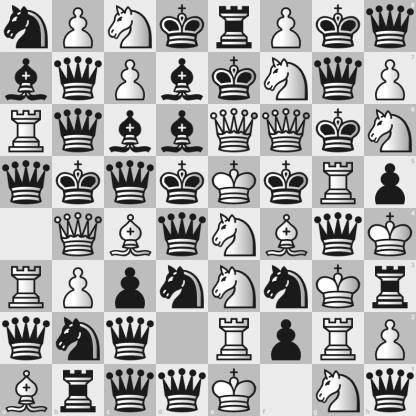B: (0, 364, 52, 416), (105, 209, 156, 260), (261, 209, 312, 260)
K: (209, 364, 260, 416), (364, 209, 416, 260), (209, 157, 260, 208), (313, 261, 364, 312)
N: (312, 364, 364, 416), (364, 104, 416, 156), (105, 1, 156, 52), (209, 209, 260, 260), (209, 261, 260, 312), (261, 53, 312, 104)
P: (364, 52, 416, 104), (364, 312, 416, 364), (53, 1, 104, 52), (53, 261, 104, 312), (105, 53, 156, 104), (261, 1, 312, 52)
Q: (53, 209, 104, 260), (209, 105, 260, 156), (261, 105, 312, 156)
R: (1, 105, 52, 156), (1, 261, 52, 312), (209, 313, 260, 364), (313, 157, 364, 208), (313, 313, 364, 364)
b: (1, 53, 52, 104), (105, 105, 156, 156), (157, 53, 208, 104), (157, 105, 208, 156)
board: (0, 0, 415, 415)
k: (53, 157, 104, 208), (157, 1, 208, 52), (157, 157, 208, 208), (209, 53, 260, 104), (261, 157, 312, 208), (313, 1, 364, 52), (313, 105, 364, 156)
n: (1, 1, 52, 52), (53, 313, 104, 364), (157, 261, 208, 312), (261, 261, 312, 312)
p: (364, 156, 416, 209), (105, 261, 156, 312), (261, 313, 312, 364)
q: (156, 364, 209, 416), (104, 364, 156, 416), (364, 0, 416, 52), (364, 364, 416, 416), (1, 157, 52, 208), (1, 313, 52, 364), (53, 53, 104, 104), (53, 105, 104, 156), (105, 157, 156, 208), (105, 313, 156, 364), (157, 209, 208, 260), (313, 53, 364, 104), (313, 209, 364, 260)
r: (52, 364, 104, 416), (364, 260, 416, 312), (209, 1, 260, 52)
